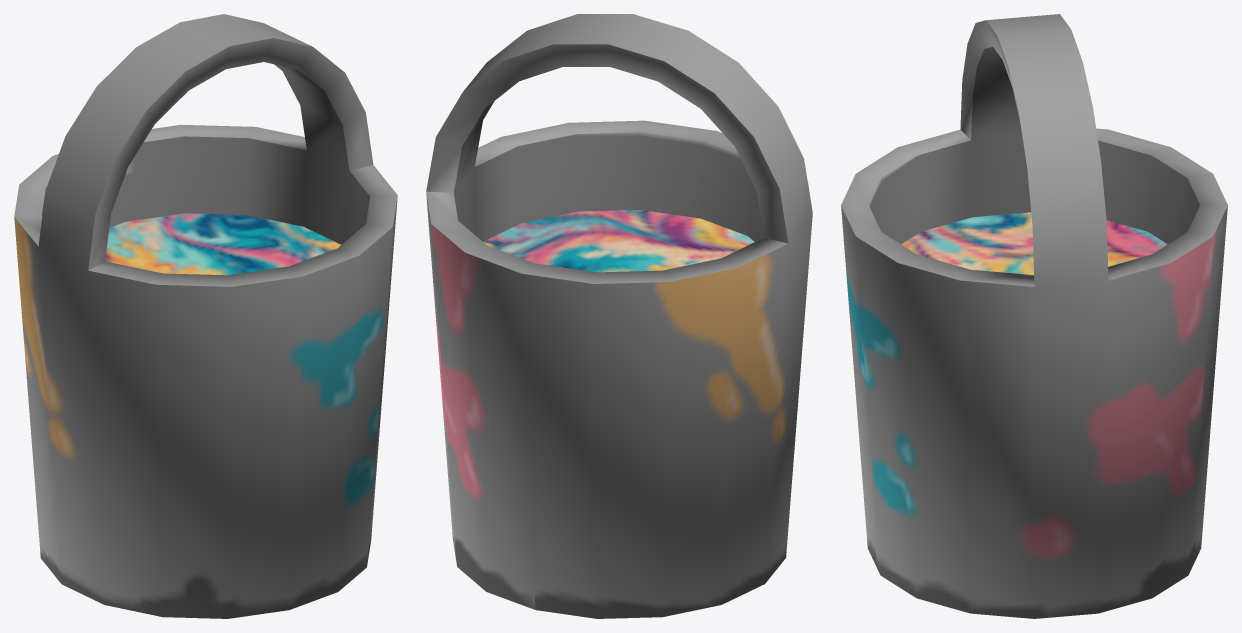
Rendered from BaldedeTinta 1.fbx.
3 views of the same model, side by side, from view 1: azimuth 30°, elevation 25°; view 2: azimuth 150°, elevation 25°; view 3: azimuth 270°, elevation 25° (orthographic).
Parts seen in each view (by area): view 1: balde; view 2: balde; view 3: balde.
Part boxes in pixels (left/top/right/bottom): balde: left=14, top=14, right=397, bottom=618; balde: left=426, top=14, right=812, bottom=618; balde: left=841, top=14, right=1227, bottom=618.
Size of the model in its own units: 23.21 by 34.11 by 23.21.
Materials: 1 (1 with a texture image).
